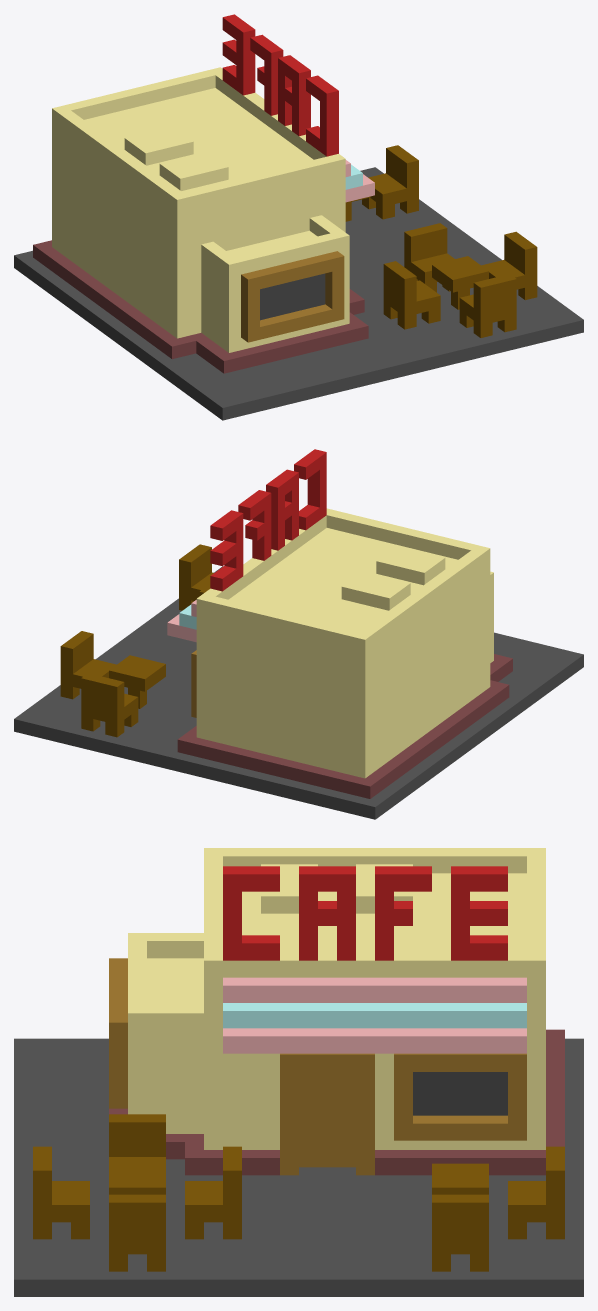
File: cafe.obj
3 renders of one model, top to bottom at view 1: azimuth 30°, elevation 25°; view 2: azimuth 150°, elevation 25°; view 3: azimuth 270°, elevation 25°, orthographic. The views are drawn at different scales.
Size of the model in its own units: 30 by 18 by 30.
